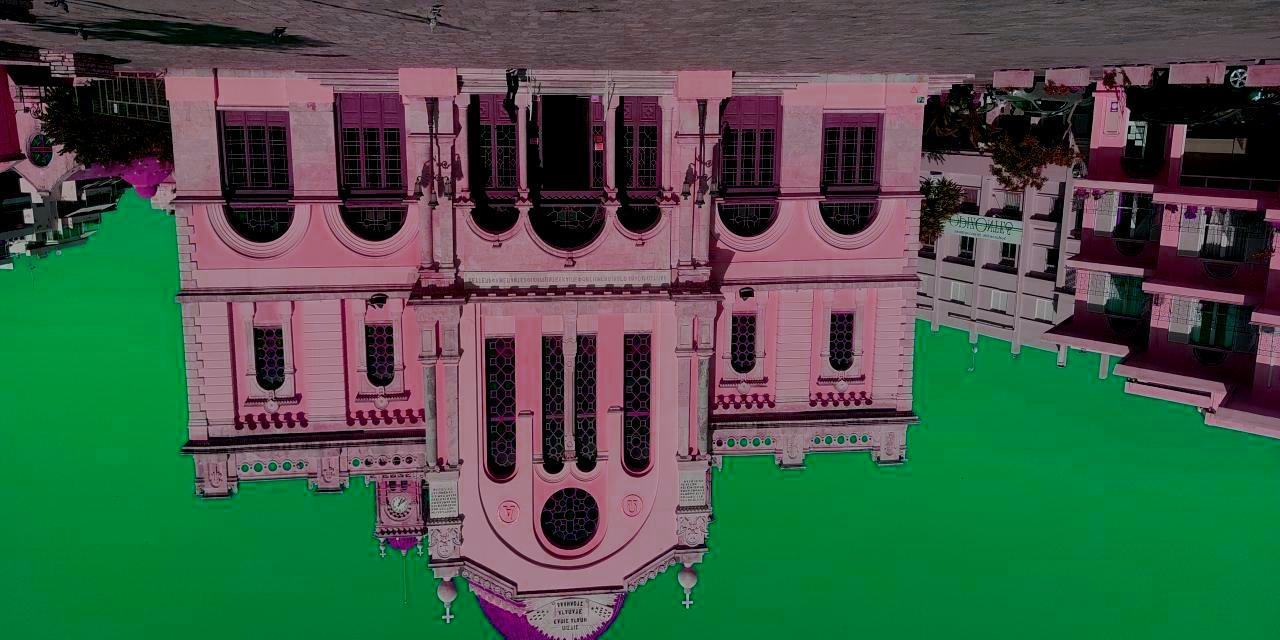Agios Minas: (164, 66, 937, 640)
